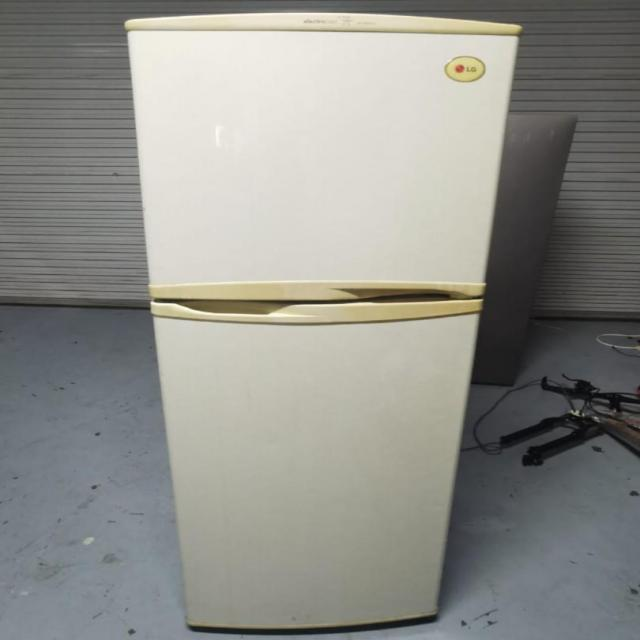refrigerator: (117, 12, 526, 631)
